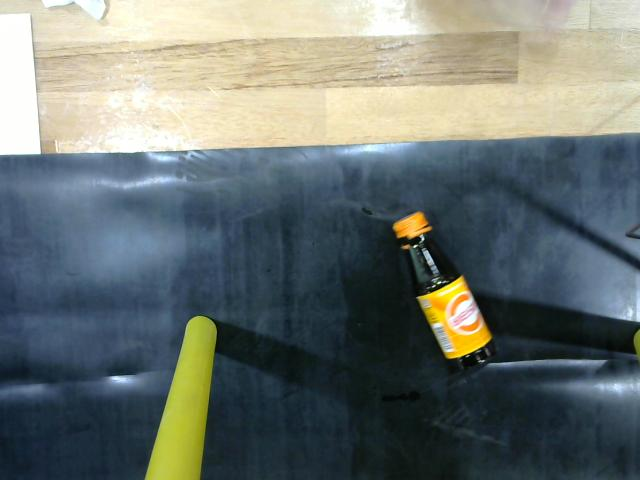glass: (392, 204, 504, 377)
